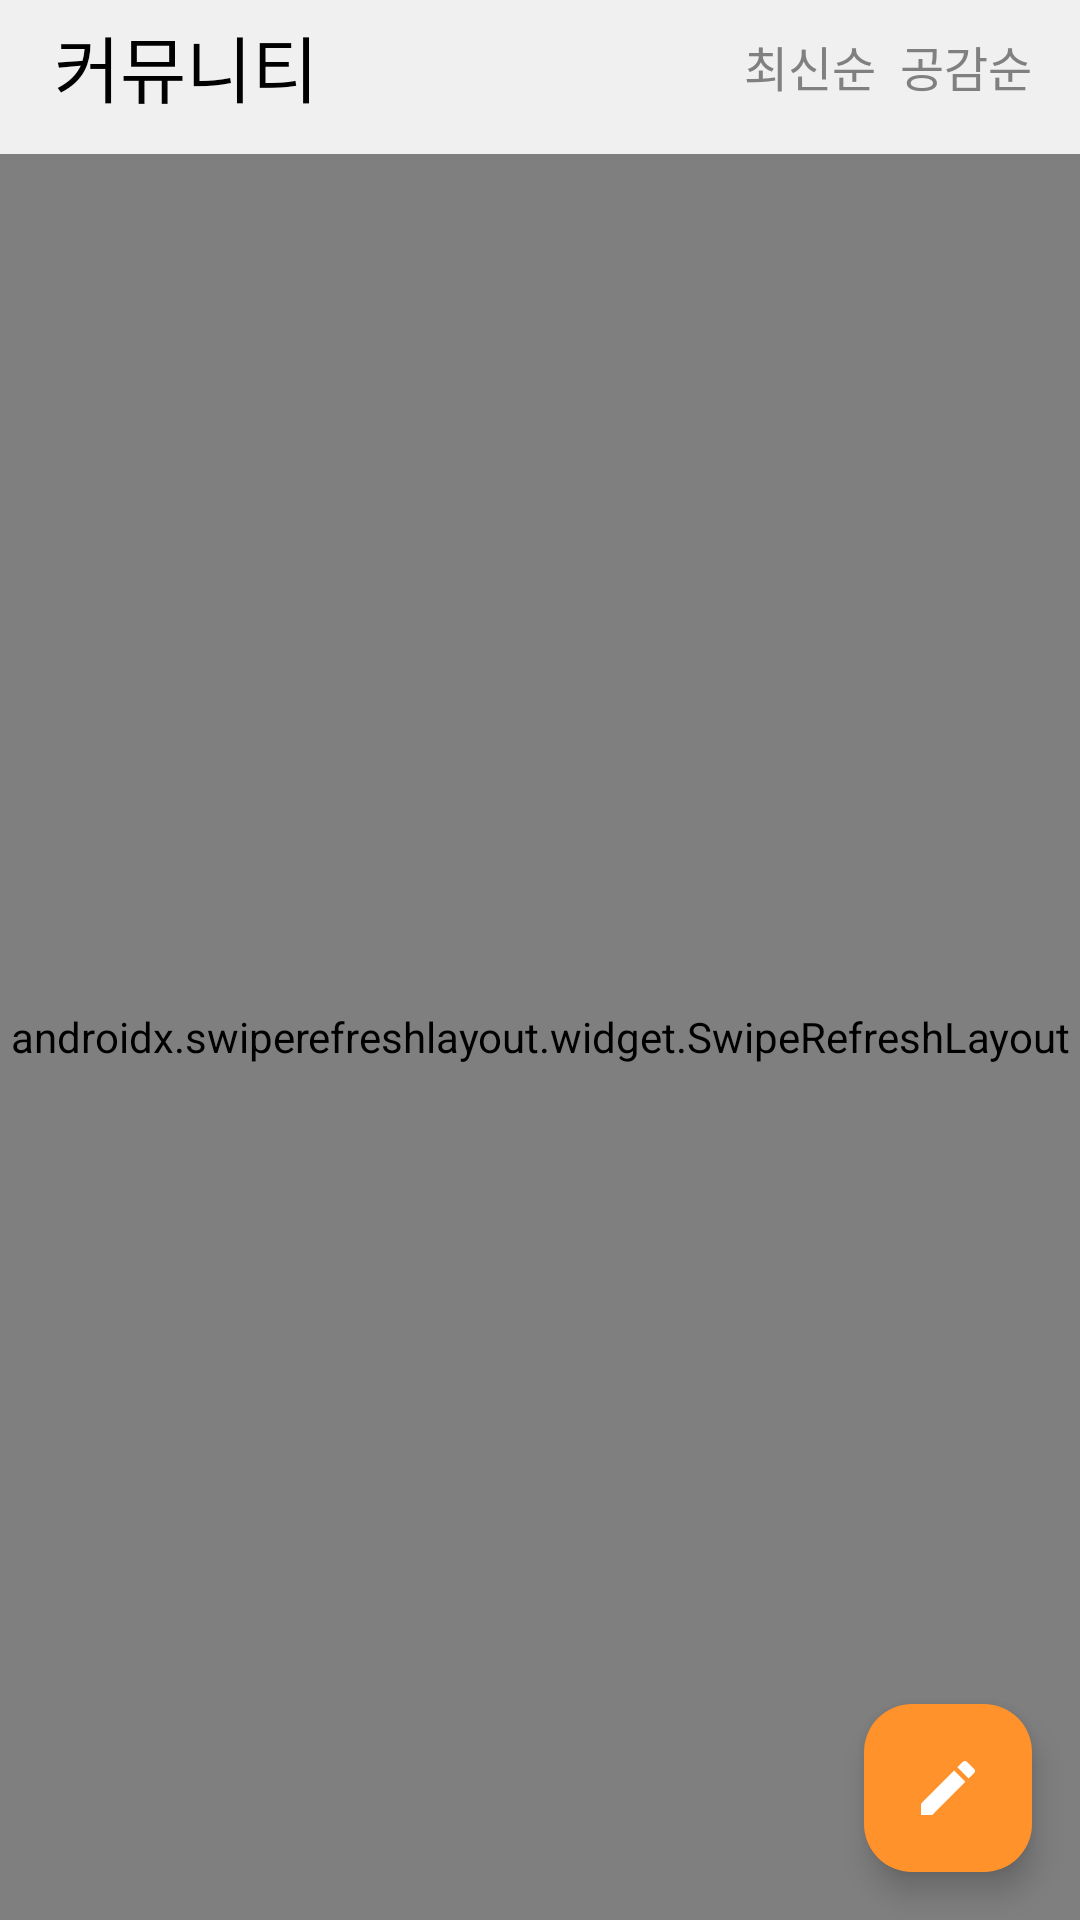

Icon click points for this 1080px x 1920px phone screenshot, format point (x, y):
글쓰기: point (948, 1788)
